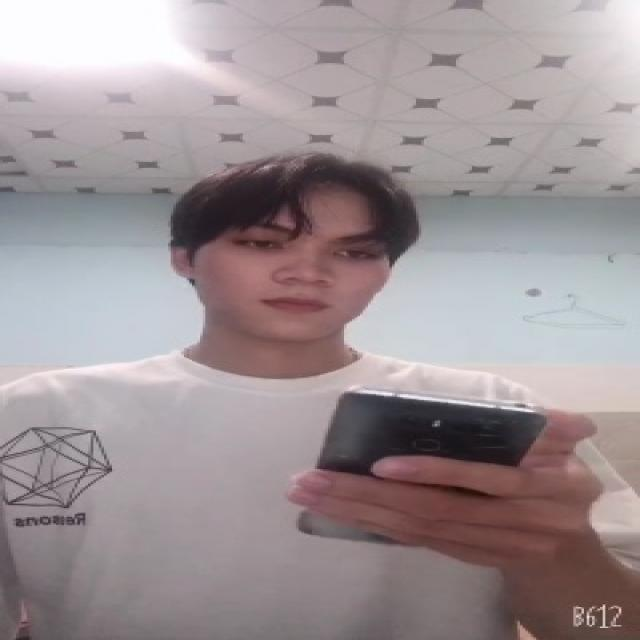Phone: (294, 386, 546, 554)
